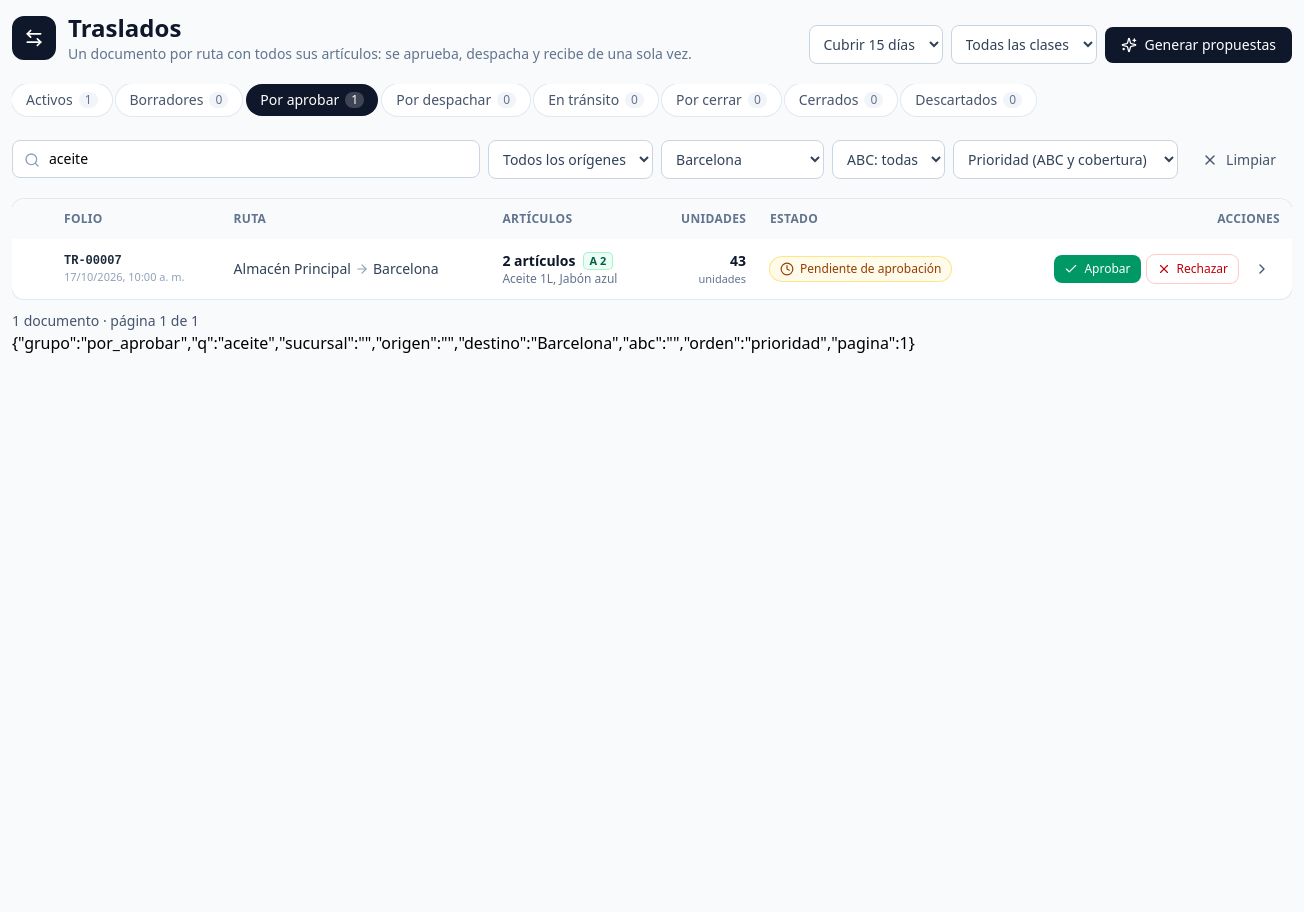
Scenario: Bandeja de traslados › un conflicto del servidor muestra el estado real y no un éxito falso
Click the button "Aprobar".
click(1097, 269)  # box top-left (1054, 255), bottom-right (1140, 283)
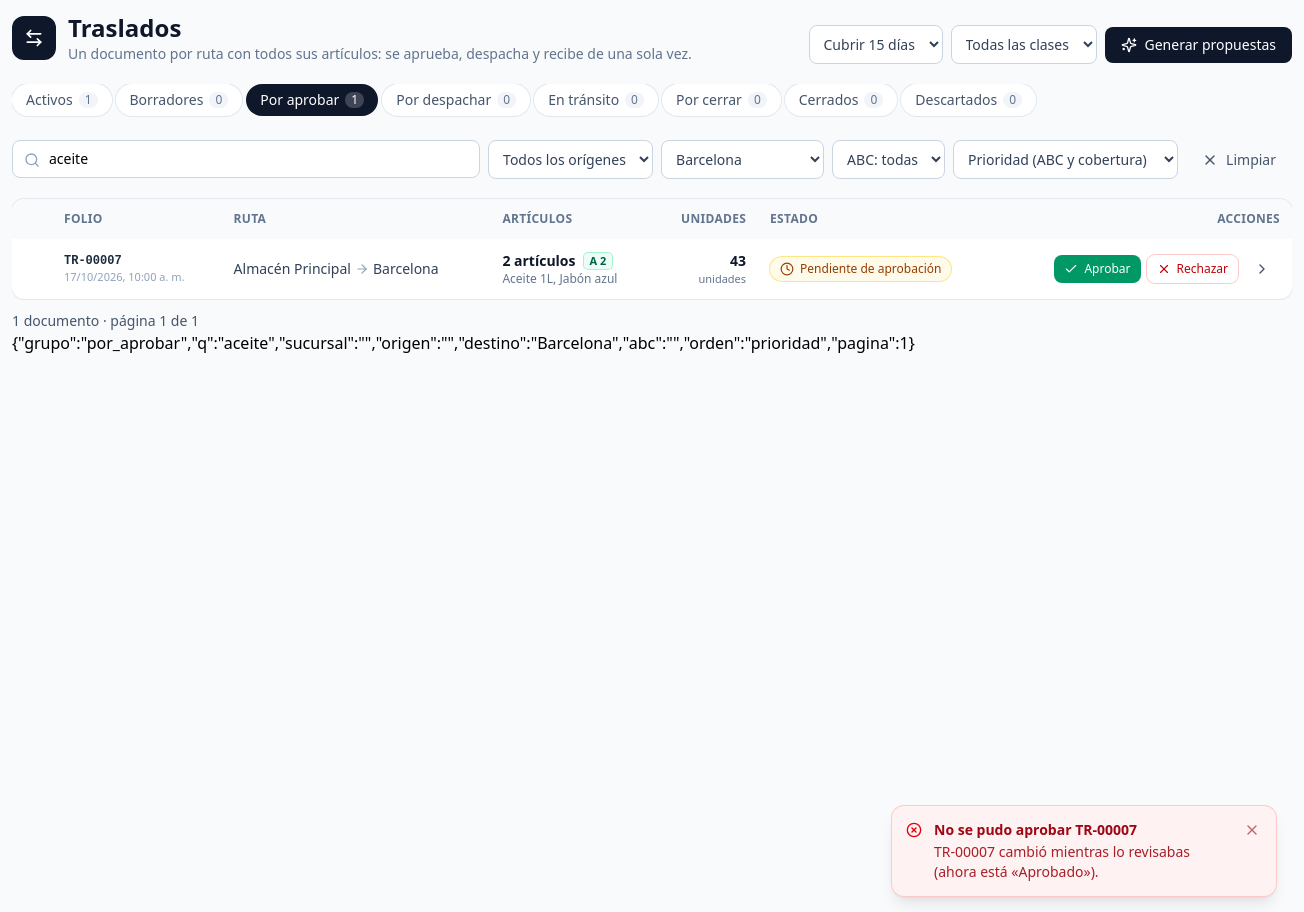
Expected: the text "No se pudo aprobar TR-00007" is shown, top-left (934, 820), bottom-right (1137, 839)
